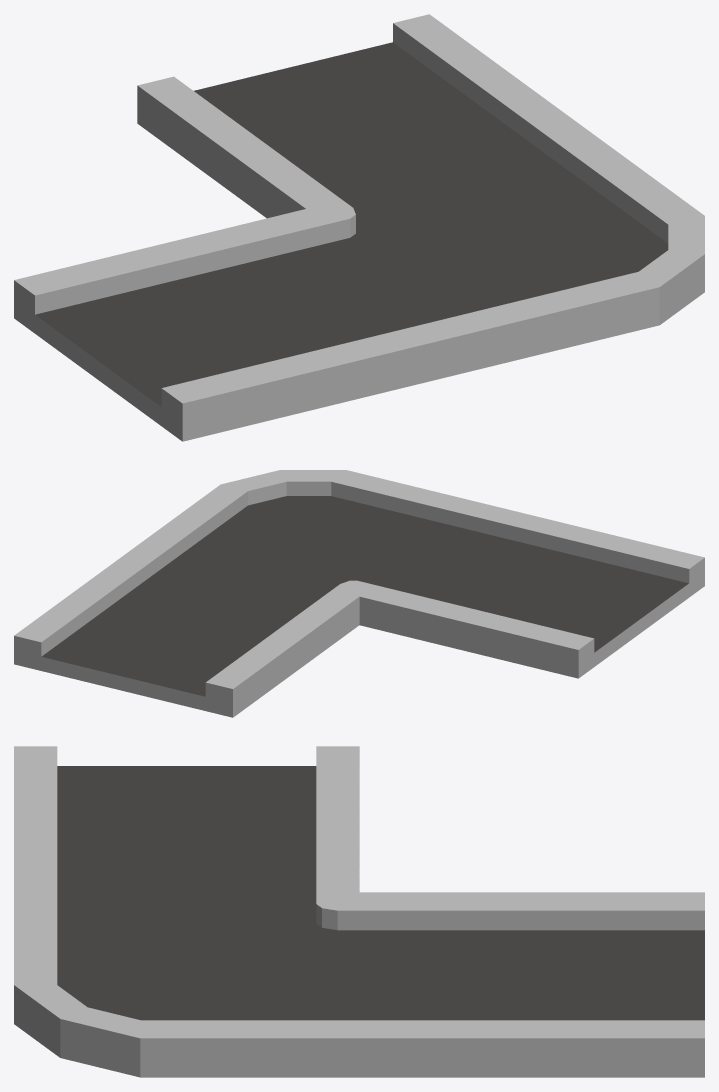
The picture shows the model from 3 angles, top to bottom: view 1: azimuth 30°, elevation 25°; view 2: azimuth 150°, elevation 25°; view 3: azimuth 270°, elevation 25°; orthographic projection. The views are drawn at different scales.
Visible parts, largest first — view 1: mesh (×2), cylinder (×2); view 2: mesh (×2), cylinder; view 3: mesh (×2), cylinder (×2).
Boxes of the visible parts, left/top/right/bottom form: mesh (×2): left=14, top=14, right=660, bottom=441; cylinder (×2): left=313, top=182, right=704, bottom=344; mesh (×2): left=14, top=474, right=704, bottom=717; cylinder: left=187, top=470, right=439, bottom=591; mesh (×2): left=14, top=746, right=704, bottom=1077; cylinder (×2): left=14, top=892, right=359, bottom=1077.
Bounding box in the file's own units: 2 × 0.125 × 2.
Materials: 1 (1 with a texture image).
